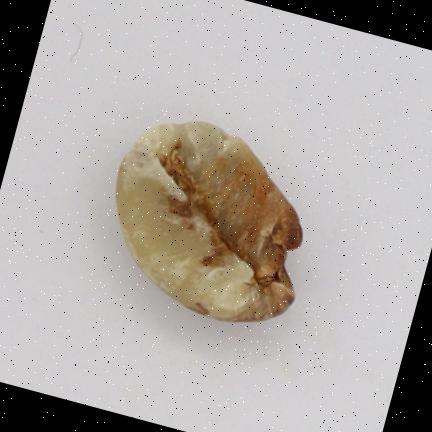broken: (116, 121, 302, 320)
